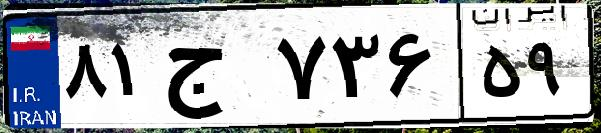1: (110, 28, 158, 98)
3: (330, 28, 385, 110)
5: (475, 38, 525, 113)
6: (385, 28, 445, 110)
7: (270, 28, 330, 110)
8: (57, 26, 110, 100)
9: (525, 38, 570, 115)
ج: (158, 20, 270, 120)
